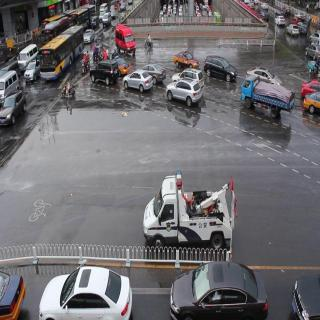BigCar: (241, 75, 294, 130), (40, 26, 83, 82)
Car: (141, 176, 232, 247), (168, 265, 270, 320), (39, 268, 132, 320), (293, 274, 320, 320), (204, 52, 237, 86), (164, 79, 202, 108), (122, 68, 154, 101), (1, 92, 26, 128), (115, 20, 138, 56), (88, 61, 120, 86), (175, 47, 201, 70), (146, 60, 165, 80), (1, 72, 17, 94), (18, 46, 36, 64), (25, 62, 40, 83), (305, 41, 319, 61), (84, 25, 96, 46), (287, 23, 299, 43), (276, 13, 286, 28), (104, 12, 112, 28), (295, 9, 305, 21), (261, 1, 270, 10)
